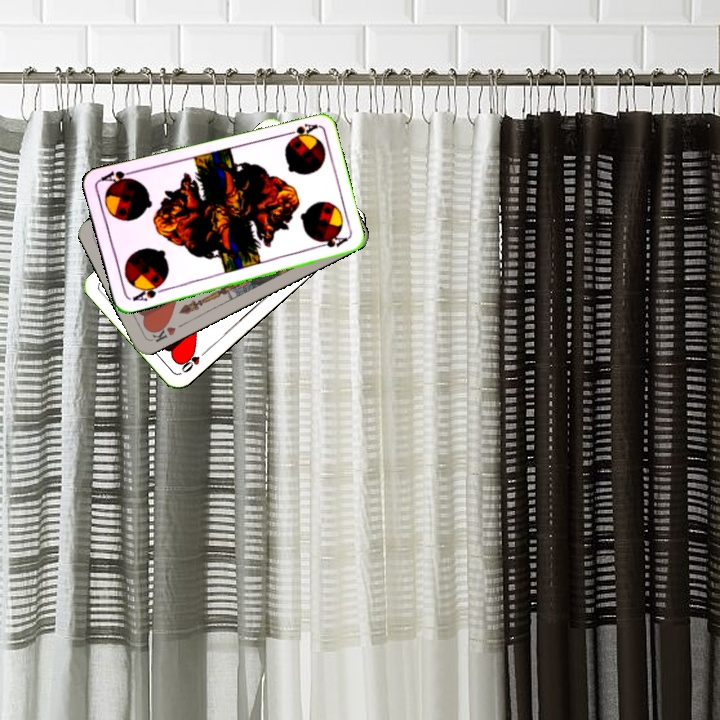HK: (146, 318, 178, 344)
HO: (177, 345, 210, 375)
SA: (128, 279, 167, 304), (279, 120, 320, 141)
